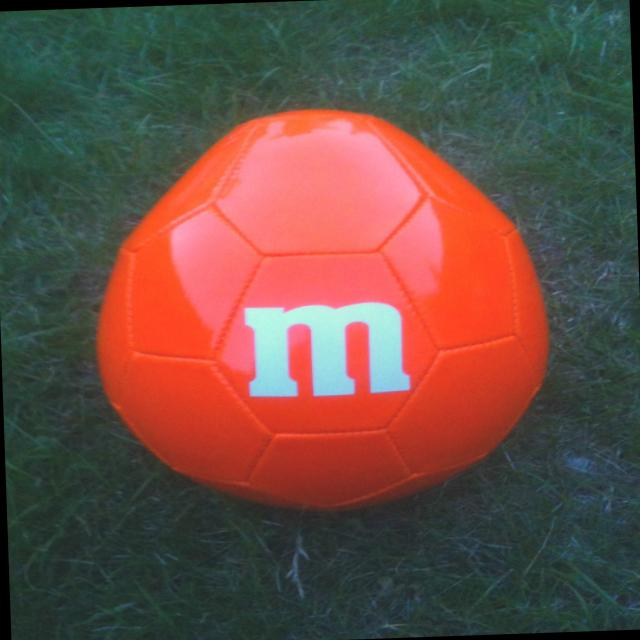Ball: (88, 101, 555, 520)
